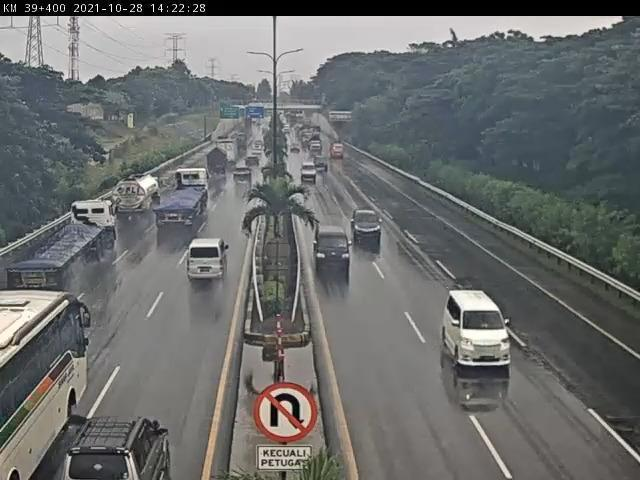bus: (1, 290, 89, 480)
car: (445, 291, 514, 372), (186, 239, 229, 284), (314, 227, 352, 272), (353, 210, 386, 245), (300, 166, 318, 185), (233, 167, 254, 183)
truck: (6, 202, 118, 293), (155, 167, 211, 227), (109, 172, 162, 220)
